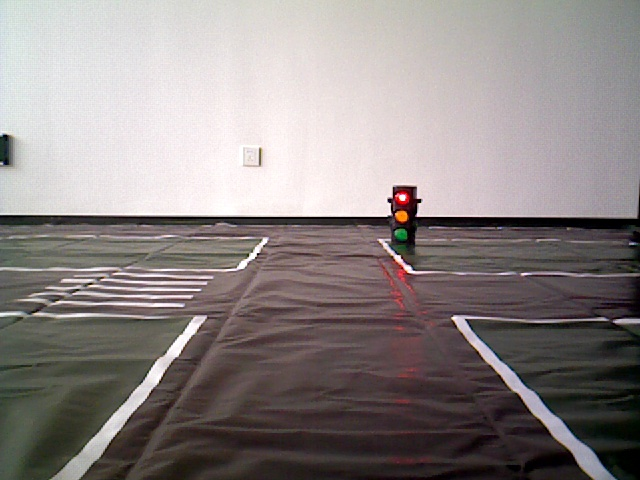red: (387, 187, 411, 243)
